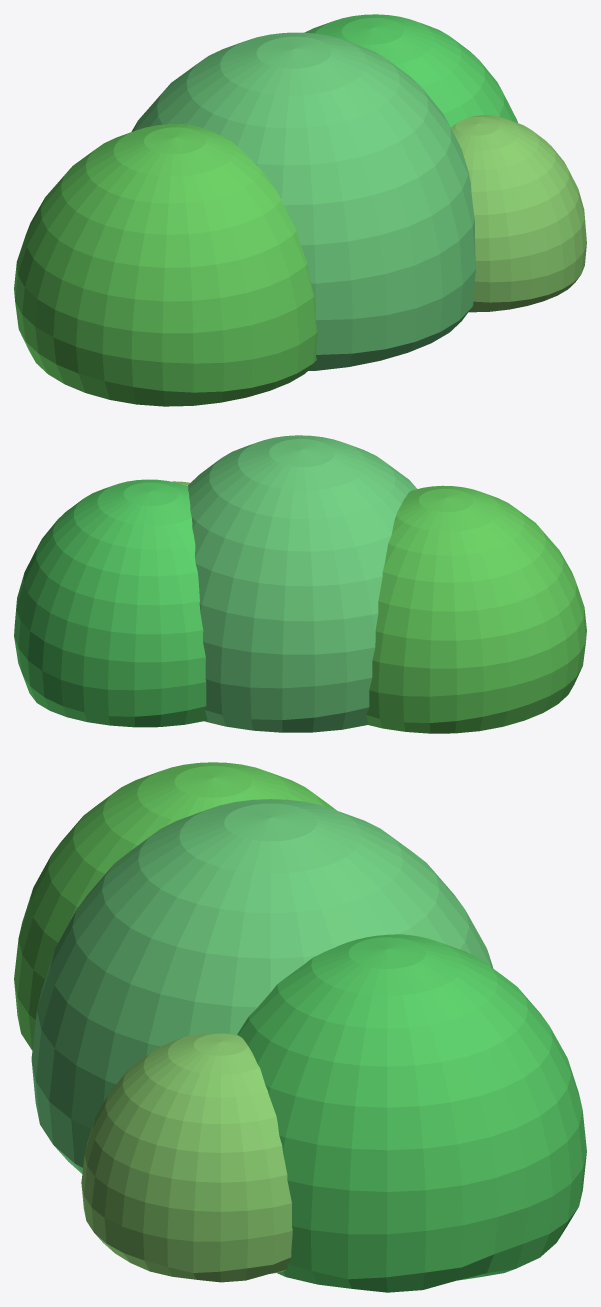
Rendered from Krzak1.glb.
3 views of the same model, one above another, from view 1: azimuth 30°, elevation 25°; view 2: azimuth 150°, elevation 25°; view 3: azimuth 270°, elevation 25° (orthographic). The views are drawn at different scales.
Parts seen in each view (by area): view 1: Sphere, Sphere.001, Sphere.003, Sphere.002; view 2: Sphere.001, Sphere, Sphere.002; view 3: Sphere.002, Sphere.001, Sphere.003, Sphere.
Boxes of the visible parts, <box> form: Sphere: <box>14,124,317,406</box>; Sphere.001: <box>131,32,476,370</box>; Sphere.003: <box>451,114,586,312</box>; Sphere.002: <box>304,14,517,127</box>; Sphere.001: <box>188,435,416,732</box>; Sphere: <box>366,485,586,733</box>; Sphere.002: <box>14,479,207,727</box>; Sphere.002: <box>237,934,586,1292</box>; Sphere.001: <box>31,799,493,1173</box>; Sphere.003: <box>81,1033,292,1282</box>; Sphere: <box>14,762,336,1050</box>.
Size of the model in its own units: 3.93 by 1.83 by 2.88.
4 materials, 4 textured.
